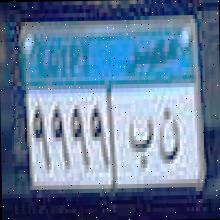9: (88, 101, 112, 172), (50, 102, 71, 174), (31, 102, 52, 174), (68, 105, 90, 172)
baa: (127, 112, 154, 175)
noon: (156, 102, 182, 170)
